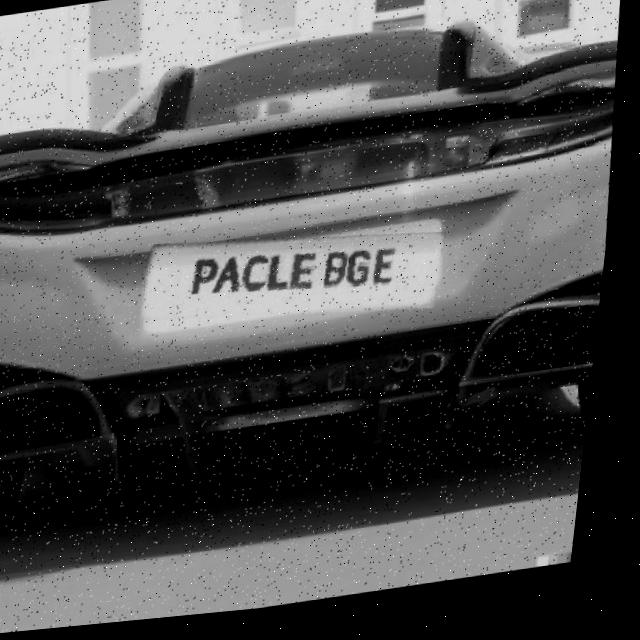LicensePlate: (149, 241, 450, 324)
